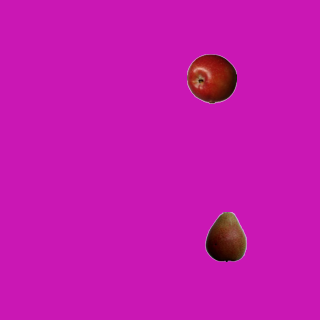Apple Braeburn: (186, 53, 236, 103)
Pear Forelle: (200, 211, 250, 261)
